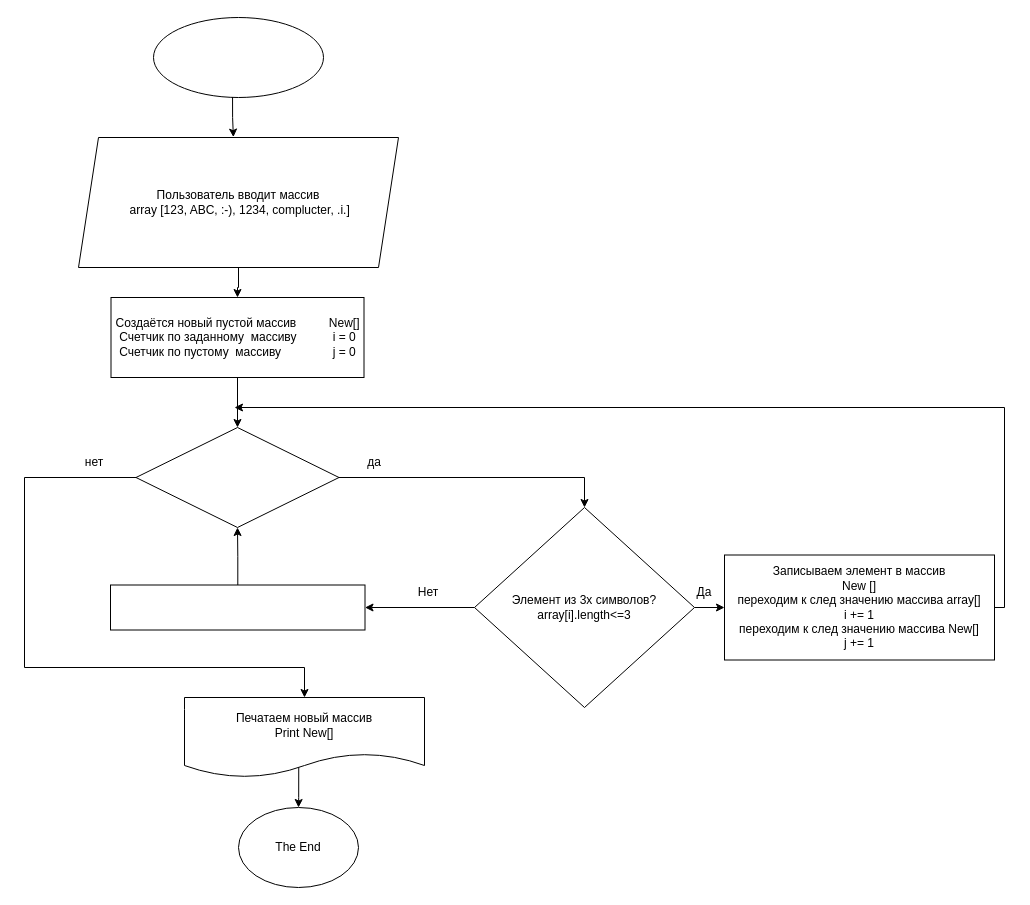
Image size: 1030x905. Some labels were removed from this diagram. Each missing label, with the centre of its shape:
"Start" belongs at (x=238, y=57).
"мы в конце массива? i<array.length" belongs at (x=237, y=477).
"переходим к след значению массива array[] i+=1" belongs at (x=237, y=607).
